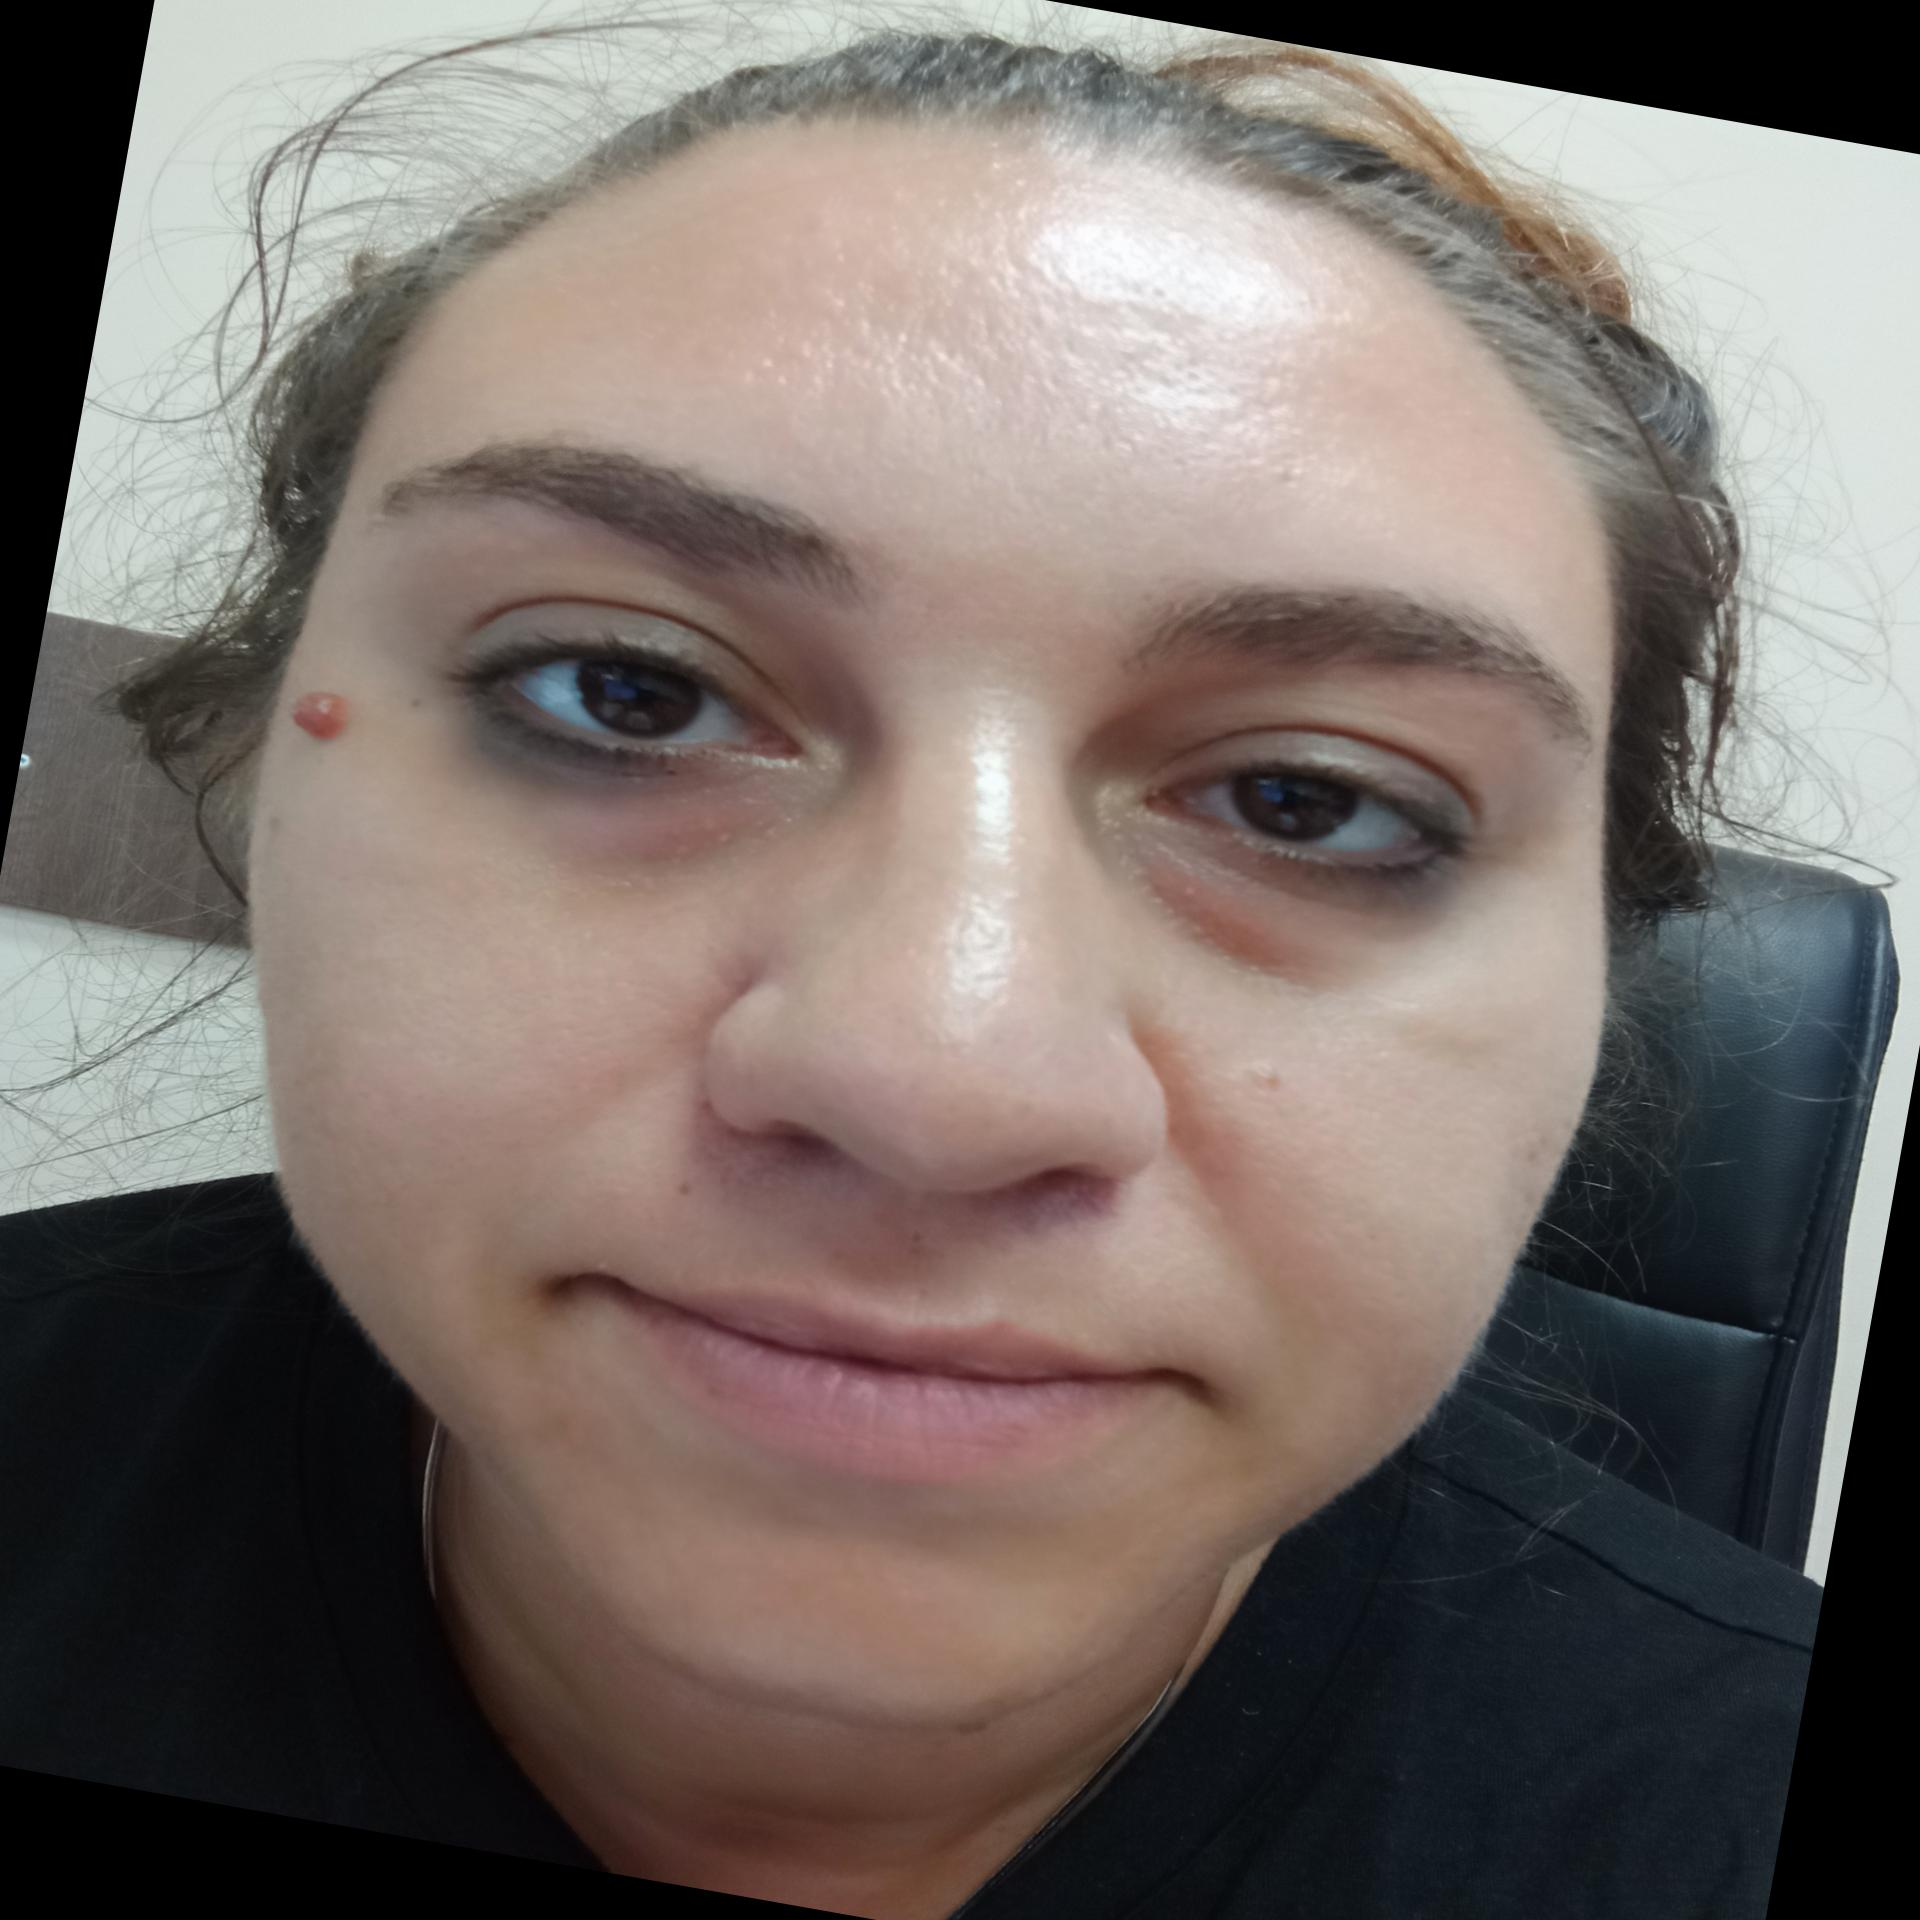Acne: (536, 1394, 610, 1456)
Dark Circles: (1078, 816, 1519, 1007), (406, 728, 788, 921)
Englarged Pores: (768, 262, 1301, 513), (383, 914, 666, 1115)
